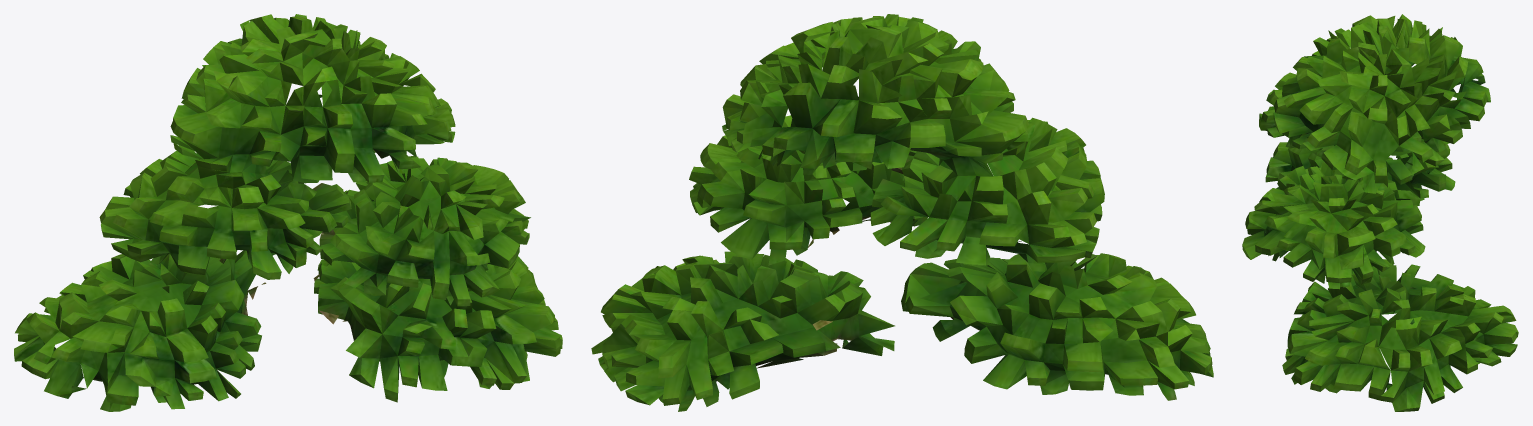
Rendered from leaf_au.glb.
The picture shows the model from 3 angles, left to right: view 1: azimuth 30°, elevation 25°; view 2: azimuth 150°, elevation 25°; view 3: azimuth 270°, elevation 25°; orthographic projection. The views are drawn at different scales.
Visible parts, largest first — view 1: geometry_0; view 2: geometry_0; view 3: geometry_0.
Part boxes in pixels (bbox=[...]): geometry_0: bbox=[14, 14, 562, 411]; geometry_0: bbox=[591, 14, 1213, 411]; geometry_0: bbox=[1242, 14, 1518, 411].
Bounding box in the file's own units: 0.3977 × 0.256 × 0.2185.
Materials: 1 (1 with a texture image).
